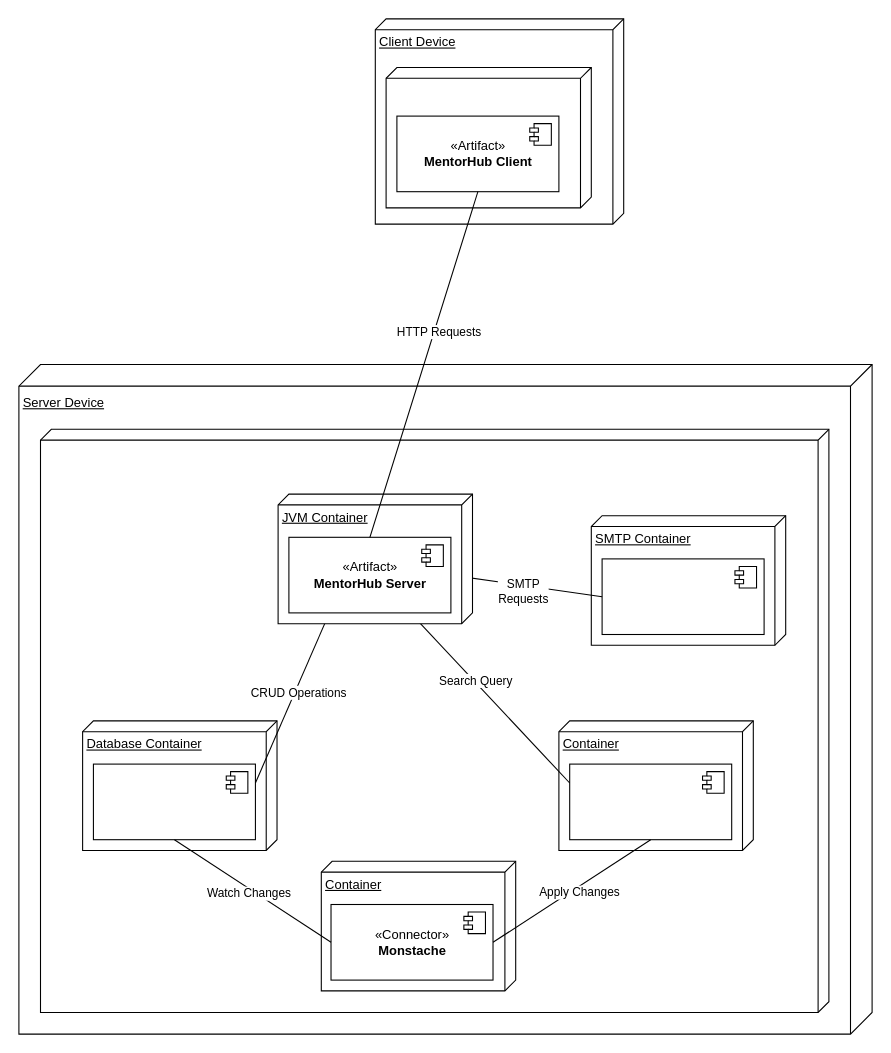
Some shapes in this 891 by 1053 pixel diagram are drawn without their labels. Each missing label, with the box of its shape:
Browser: (385, 66, 591, 208)
Docker: (39, 428, 829, 1013)
«Database» MongoDB: (92, 763, 255, 840)
«Search Engine» Elasticsearch: (569, 763, 732, 840)
«SMTP Server» Mailhog: (601, 558, 764, 634)
